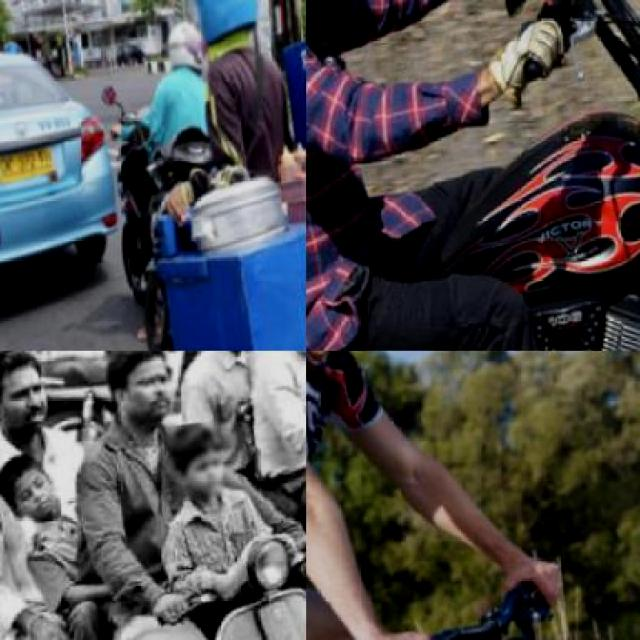With Helmet: (169, 0, 285, 60), (158, 11, 220, 86)
Without Helmet: (97, 351, 192, 437), (162, 413, 240, 504), (0, 350, 69, 448)
